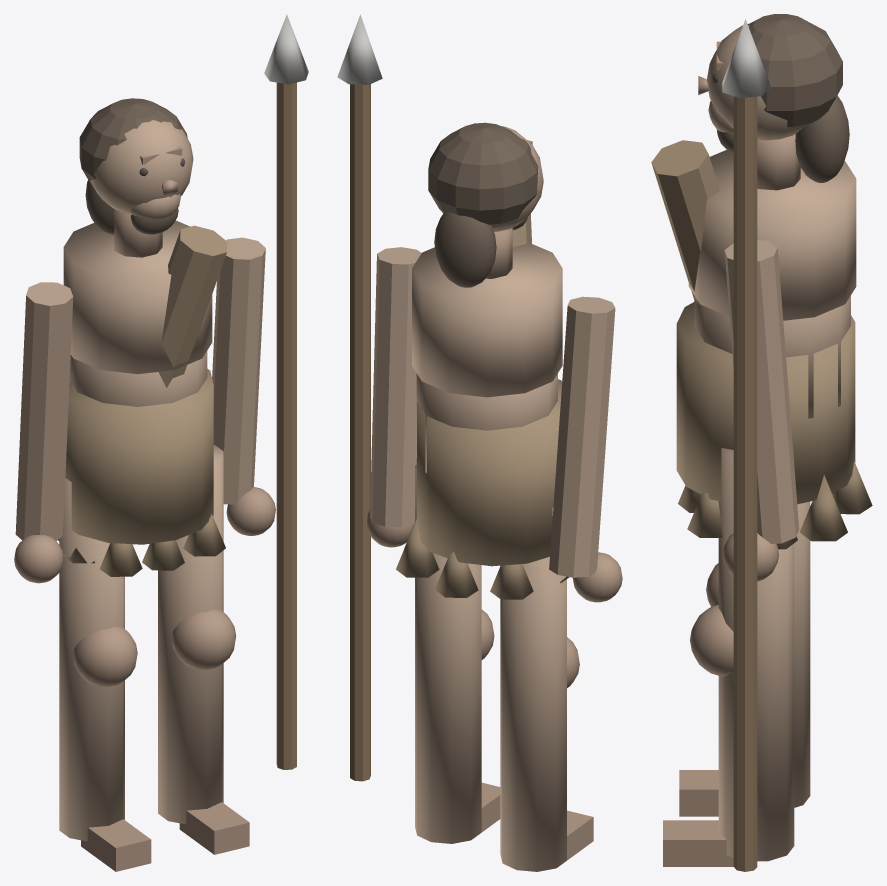
Rendered from settler.glb.
3 renders of one model, left to right at view 1: azimuth 30°, elevation 25°; view 2: azimuth 150°, elevation 25°; view 3: azimuth 270°, elevation 25°, orthographic. The views are drawn at different scales.
Parts seen in each view (by area): view 1: Wrap, LegL, LegR, Spear, TorsoUp, ArmL, ArmR, Head, Sash, TorsoLow, Hair, KneeL (+13 smaller); view 2: LegL, Wrap, TorsoUp, LegR, Spear, ArmL, ArmR, Hair, TorsoLow, HairBack, SpearTip, HandL (+8 smaller); view 3: Spear, Wrap, LegR, TorsoUp, ArmR, Hair, Sash, LegL, TorsoLow, HairBack, FootR, Head (+8 smaller).
Part boxes in pixels (x1,y1,x2,y2): Wrap: [65, 368, 213, 544]; LegL: [59, 478, 124, 841]; LegR: [158, 445, 223, 824]; Spear: [276, 82, 296, 769]; TorsoUp: [63, 220, 212, 374]; ArmL: [15, 282, 73, 540]; ArmR: [212, 237, 265, 504]; Head: [90, 120, 193, 213]; Sash: [158, 225, 227, 387]; TorsoLow: [69, 351, 207, 406]; Hair: [79, 98, 187, 186]; KneeL: [73, 626, 137, 686]; LegL: [500, 507, 566, 871]; Wrap: [417, 379, 562, 566]; TorsoUp: [412, 242, 562, 397]; LegR: [415, 464, 481, 843]; Spear: [350, 84, 370, 781]; ArmL: [549, 296, 615, 577]; ArmR: [370, 247, 421, 527]; Hair: [428, 122, 538, 227]; TorsoLow: [416, 373, 557, 473]; HairBack: [434, 212, 496, 287]; SpearTip: [337, 14, 382, 84]; HandL: [573, 552, 622, 602]; Spear: [733, 96, 757, 871]; Wrap: [676, 302, 855, 504]; LegR: [718, 447, 794, 861]; TorsoUp: [688, 150, 856, 320]; ArmR: [724, 239, 799, 543]; Hair: [748, 14, 842, 127]; Sash: [651, 140, 719, 305]; LegL: [794, 501, 810, 807]; TorsoLow: [694, 295, 850, 418]; HairBack: [795, 95, 849, 182]; FootR: [663, 820, 733, 866]; Head: [707, 23, 802, 140].
Size of the model in its own units: 0.6788 by 1.81 by 0.4092.
